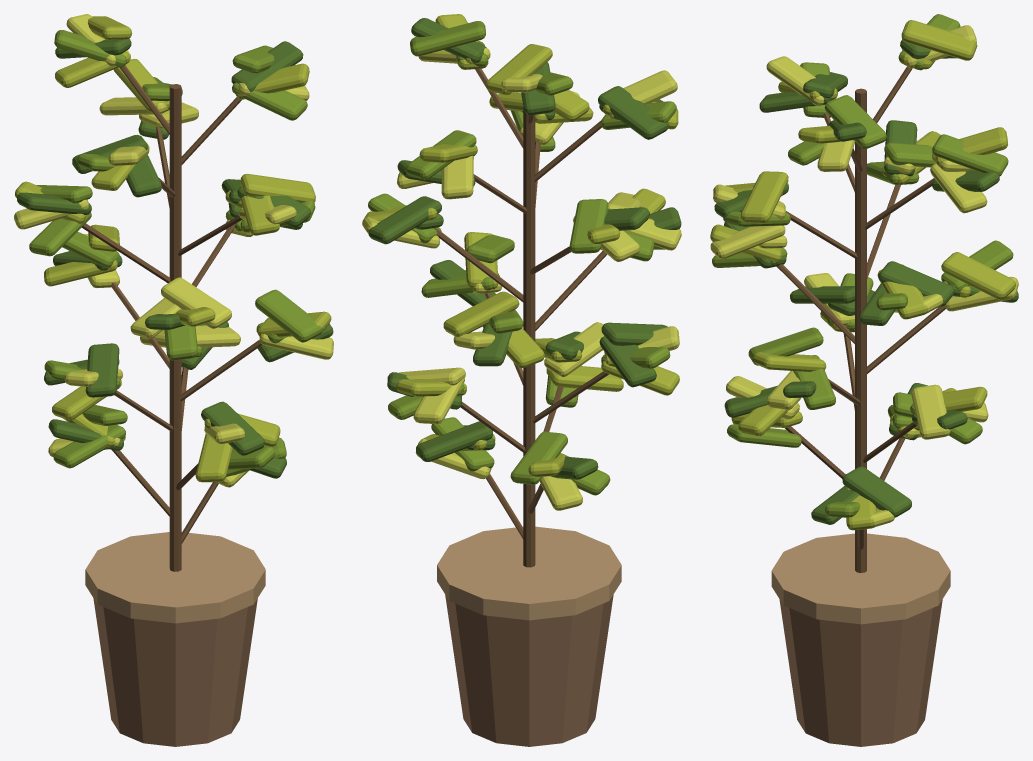
Rendered from plant_slender.glb.
3 renders of one model, left to right at view 1: azimuth 30°, elevation 25°; view 2: azimuth 150°, elevation 25°; view 3: azimuth 270°, elevation 25°, orthographic. The views are drawn at different scales.
Visible parts, largest first — view 1: plant_slender__terracotta, plant_slender__leaf_mid, plant_slender__leaf_light, plant_slender__pot_rim, plant_slender__leaf, plant_slender__bark, plant_slender__leaf_tip; view 2: plant_slender__terracotta, plant_slender__leaf, plant_slender__leaf_mid, plant_slender__leaf_light, plant_slender__pot_rim, plant_slender__leaf_tip, plant_slender__bark; view 3: plant_slender__terracotta, plant_slender__leaf_mid, plant_slender__leaf_light, plant_slender__leaf, plant_slender__pot_rim, plant_slender__leaf_tip, plant_slender__bark.
Part boxes in pixels (box(x1,y1,x2,y2)): plant_slender__terracotta: box(93, 598, 257, 746); plant_slender__leaf_mid: box(29, 30, 322, 476); plant_slender__leaf_light: box(15, 16, 331, 482); plant_slender__pot_rim: box(85, 532, 265, 623); plant_slender__leaf: box(17, 38, 333, 478); plant_slender__bark: box(82, 65, 262, 571); plant_slender__leaf_tip: box(14, 14, 333, 487); plant_slender__terracotta: box(445, 594, 613, 746); plant_slender__leaf: box(368, 18, 681, 479); plant_slender__leaf_mid: box(368, 21, 676, 495); plant_slender__leaf_light: box(362, 14, 679, 476); plant_slender__pot_rim: box(437, 526, 621, 620); plant_slender__leaf_tip: box(363, 48, 681, 510); plant_slender__bark: box(433, 68, 608, 567); plant_slender__terracotta: box(779, 599, 942, 746); plant_slender__leaf_mid: box(712, 14, 1013, 517); plant_slender__leaf_light: box(710, 20, 1015, 530); plant_slender__leaf: box(714, 39, 1018, 524); plant_slender__pot_rim: box(771, 533, 950, 624); plant_slender__leaf_tip: box(710, 25, 1018, 526); plant_slender__bark: box(776, 66, 945, 572).
Size of the model in its own units: 0.6161 by 1.49 by 0.6147.
